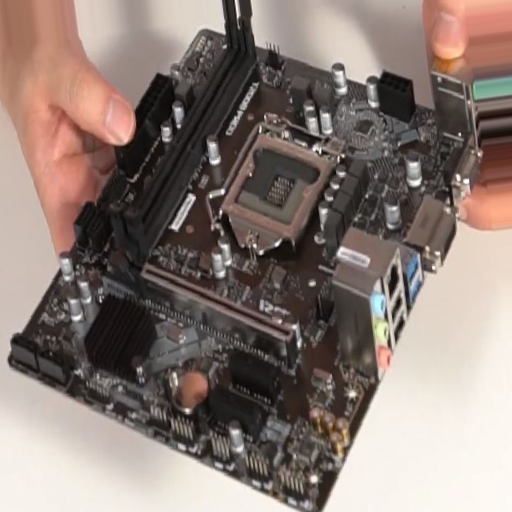CPU: (220, 117, 341, 258)
GPU: (113, 237, 298, 366)
MOTHERBOARD: (9, 37, 471, 512)
RAM: (109, 6, 255, 259)
